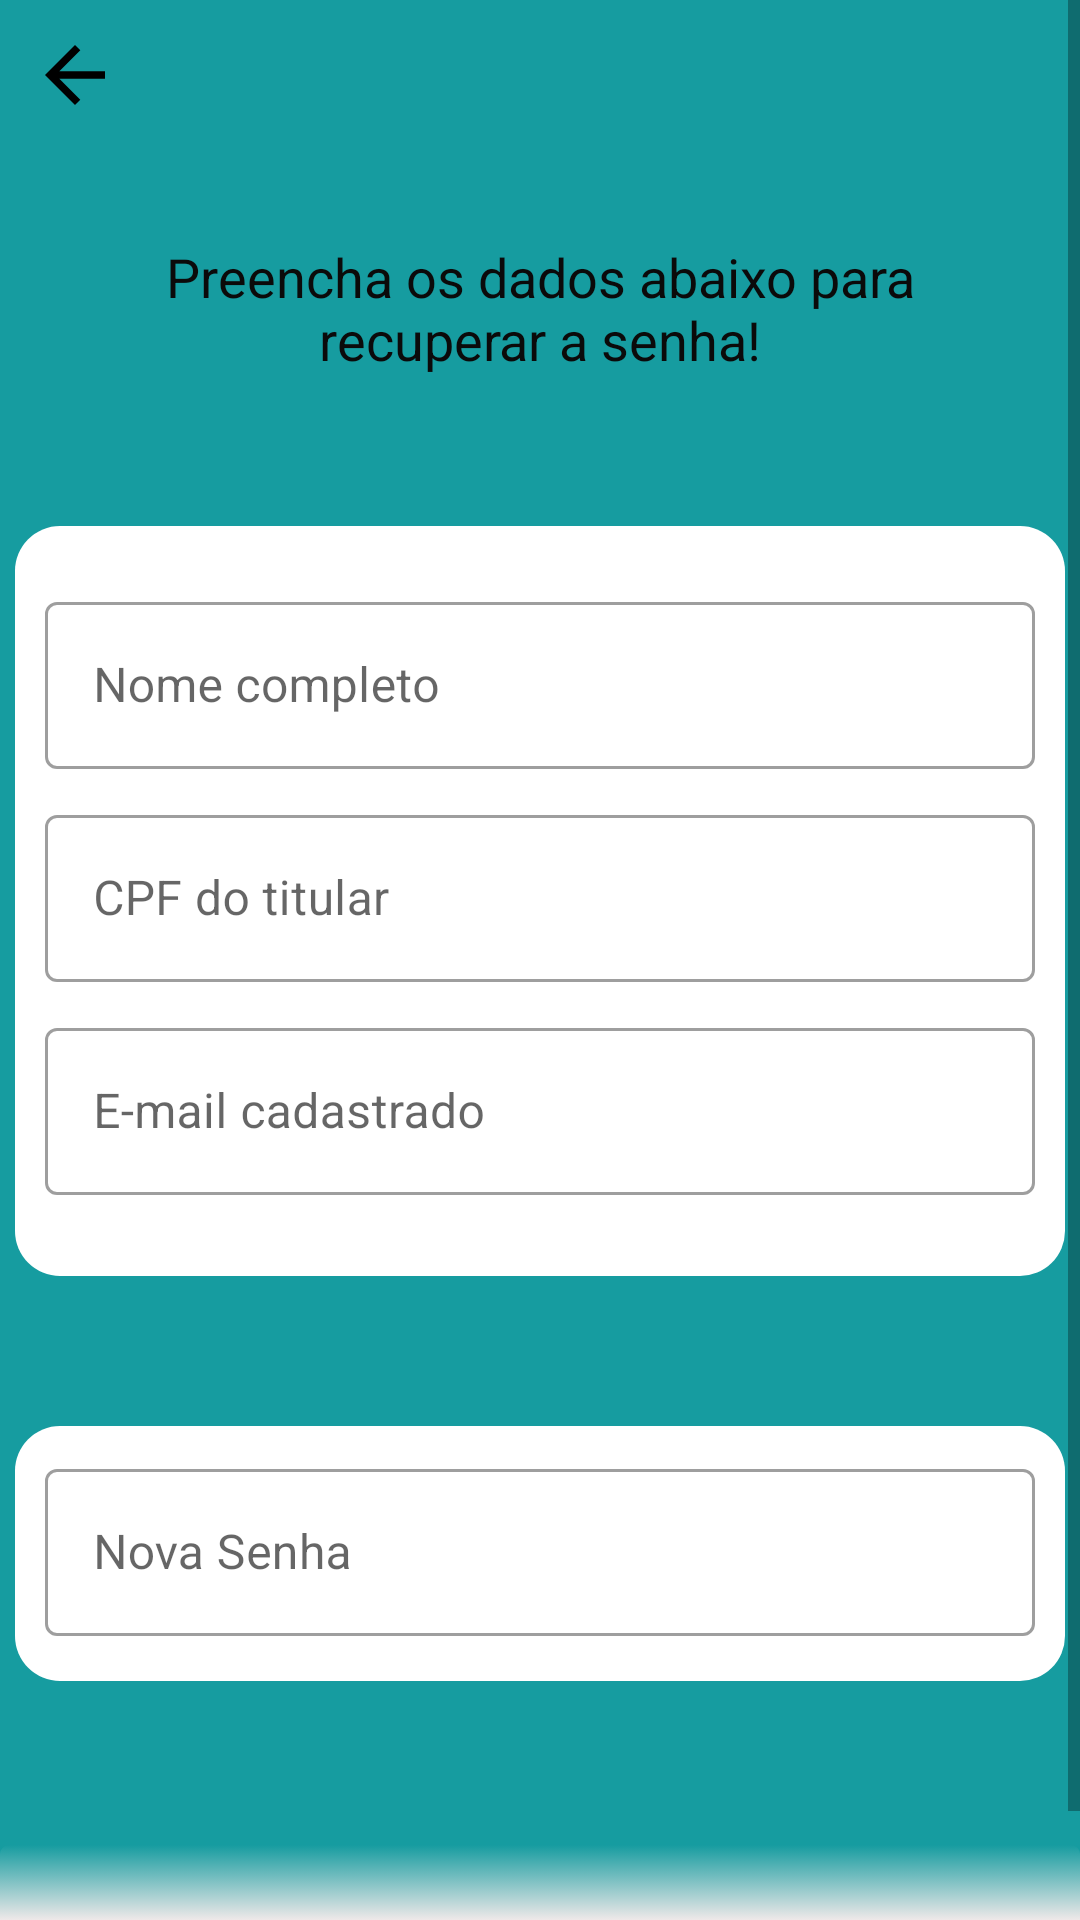

Icons on this 1080px×1920px Android screen, each with its box as (x1=x1, y1=y1, x2=x2, y2=y2):
voltar: (x1=45, y1=45, x2=105, y2=105)
